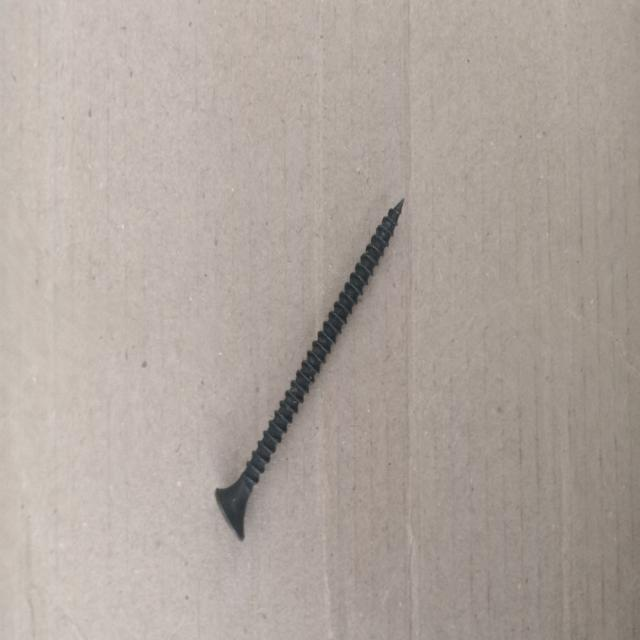screw: (215, 200, 404, 544)
